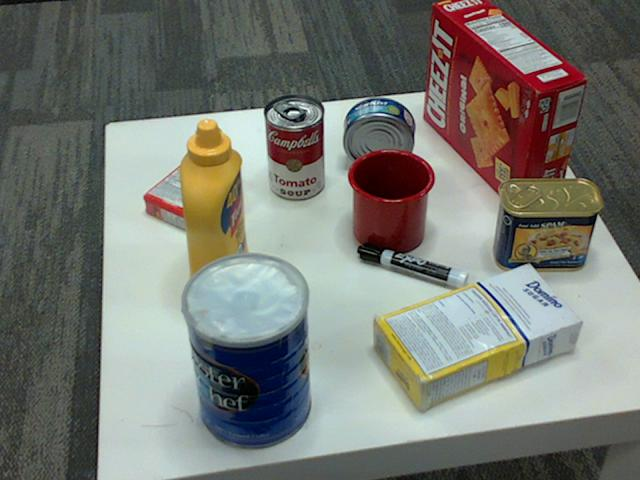cracker_box: (423, 0, 586, 210)
gelatin_box: (141, 153, 240, 231)
large_marker: (358, 243, 469, 294)
master_chef_can: (178, 255, 310, 452)
mug: (345, 147, 433, 253)
mustard_bottle: (176, 119, 248, 305)
potted_meat_can: (491, 179, 601, 273)
sugar_box: (369, 262, 579, 411)
tomato_soup_can: (263, 94, 324, 200)
tuna_fish_can: (341, 97, 414, 170)
